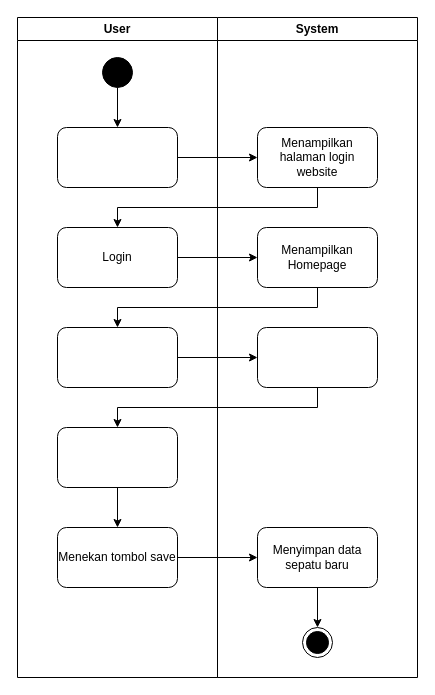
This 435x695 diagram has some shape labels left out. Here are the shapes that lost their labels. From the top down, the centre of each, then its label:
pixel 117 157: User membuka halaman login website
pixel 117 357: User menekan tombol "Add Shoes"
pixel 317 357: Menampilkan halaman New Shoes
pixel 117 457: Mengisi data item
